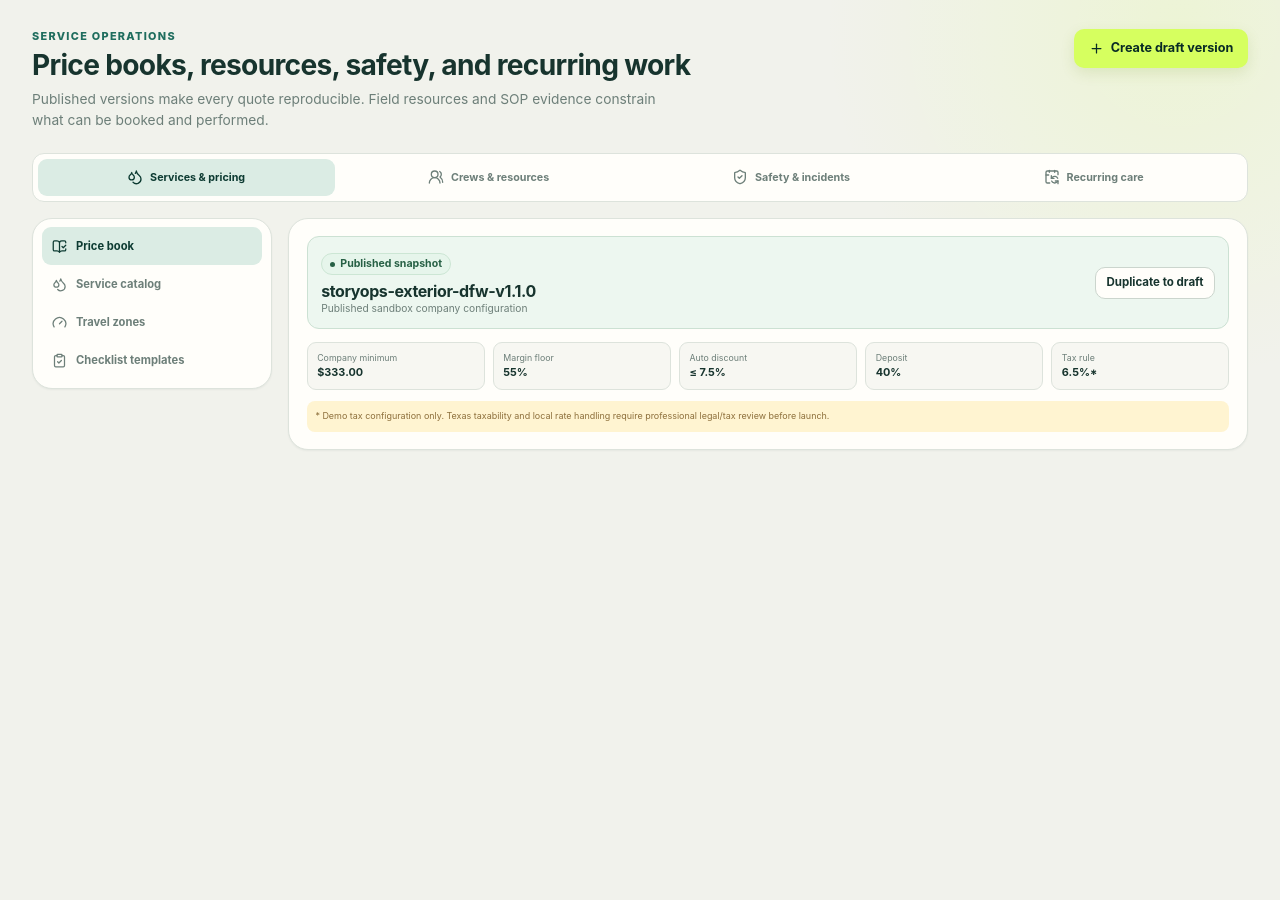
Test case: published sandbox pricing UI › renders custom published operations summaries and never the legacy zone
Expected: the text "$333.00" is shown, x1=317 y1=365 x2=363 y2=379
Click the button "Service catalog" at {"x": 152, "y": 284}, box x1=42 y1=265 x2=262 y2=303
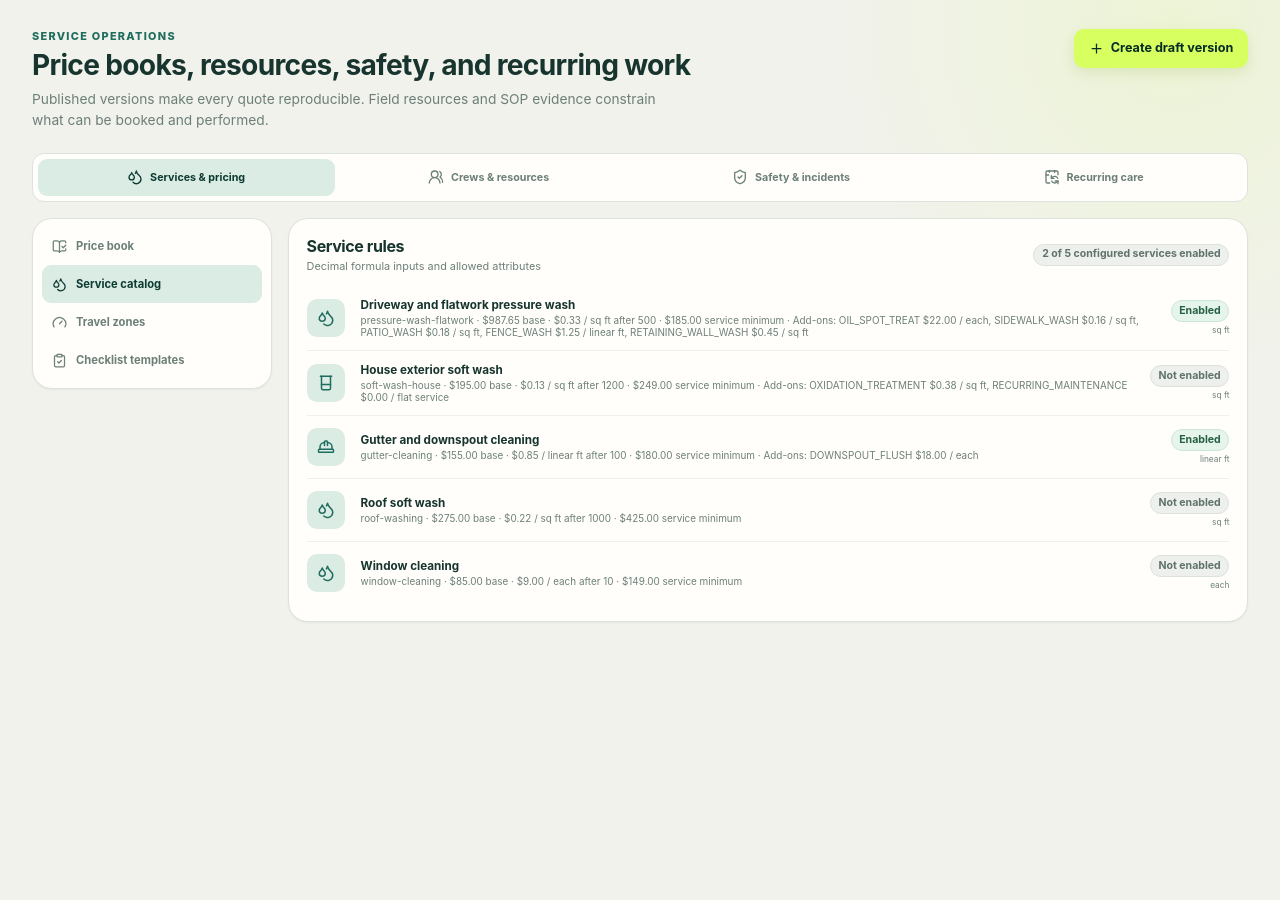
Expected: the text "$987.65 base · $0.33 / sq ft" is shown, x1=482 y1=314 x2=784 y2=326
Click the button "Travel zones" at {"x": 152, "y": 322}, box x1=42 y1=303 x2=262 y2=341
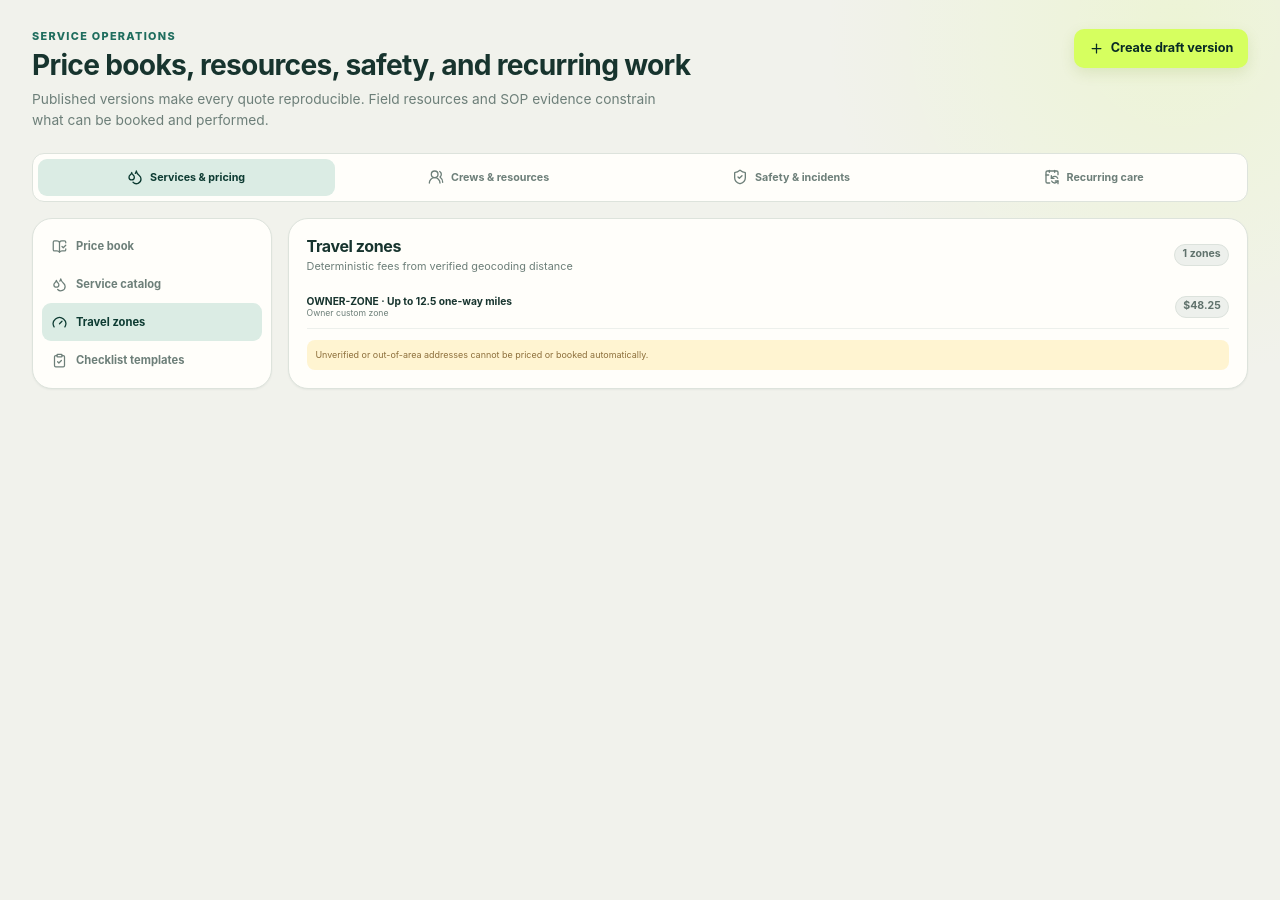
Expected: the text "OWNER-ZONE · Up to 12.5 one-way miles" is shown, x1=307 y1=295 x2=512 y2=307
Expected: the text "$48.25" is shown, x1=1175 y1=296 x2=1229 y2=318
